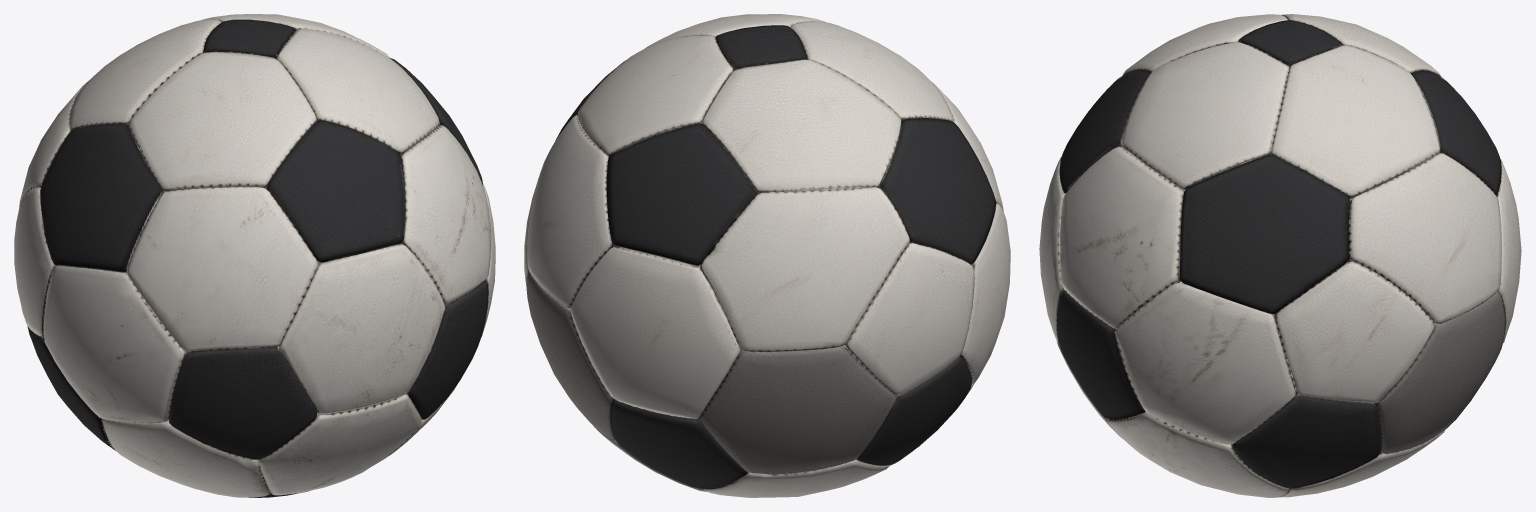
File: soccer-ball.glb
3 views of the same model, side by side, from view 1: azimuth 30°, elevation 25°; view 2: azimuth 150°, elevation 25°; view 3: azimuth 270°, elevation 25° (orthographic).
Visible parts, largest first — view 1: tripo_mesh_40e96b89_16fc_436f_a9e3_57e56d7607f7; view 2: tripo_mesh_40e96b89_16fc_436f_a9e3_57e56d7607f7; view 3: tripo_mesh_40e96b89_16fc_436f_a9e3_57e56d7607f7.
Boxes of the visible parts, x1,y1,x2,y2 form: tripo_mesh_40e96b89_16fc_436f_a9e3_57e56d7607f7: (14, 14, 495, 497); tripo_mesh_40e96b89_16fc_436f_a9e3_57e56d7607f7: (524, 14, 1010, 497); tripo_mesh_40e96b89_16fc_436f_a9e3_57e56d7607f7: (1039, 14, 1521, 497).
Size of the model in its own units: 0.9985 by 0.9995 by 0.9995.
Materials: 1 (1 with a texture image).
